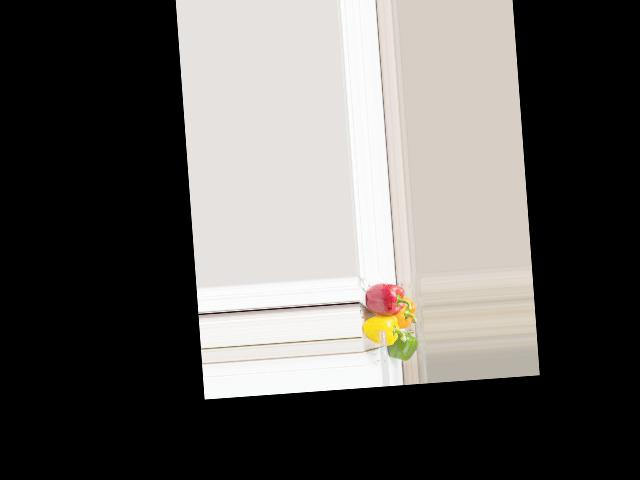bell_pepper: (392, 296, 418, 330)
